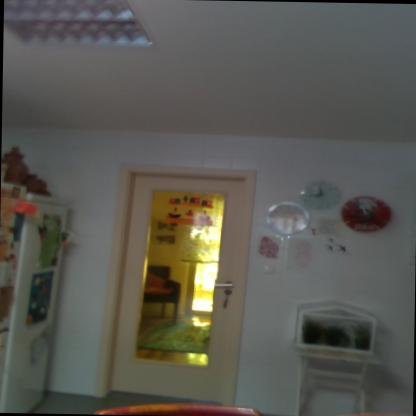closed: (97, 152, 272, 400)
